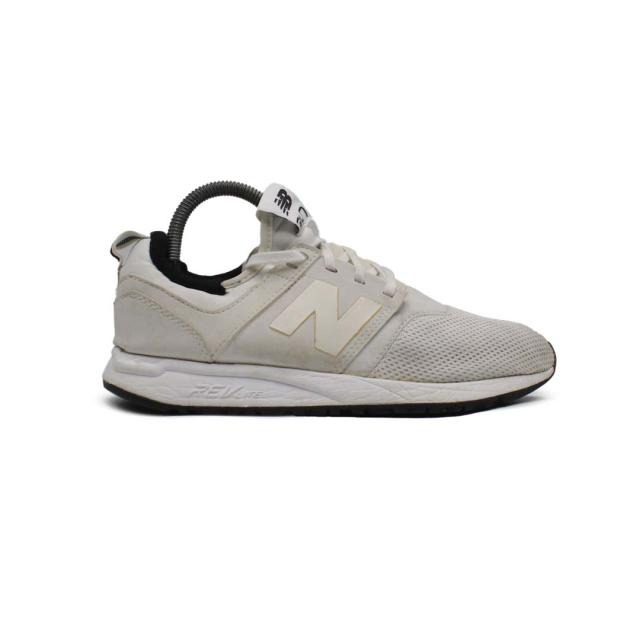heel: (109, 228, 181, 348)
midsole: (100, 347, 548, 418)
uppersole: (179, 178, 545, 382)
